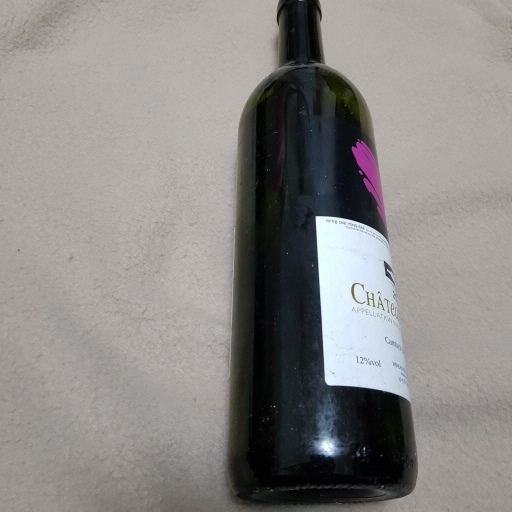Glass_2: (229, 1, 426, 512)
